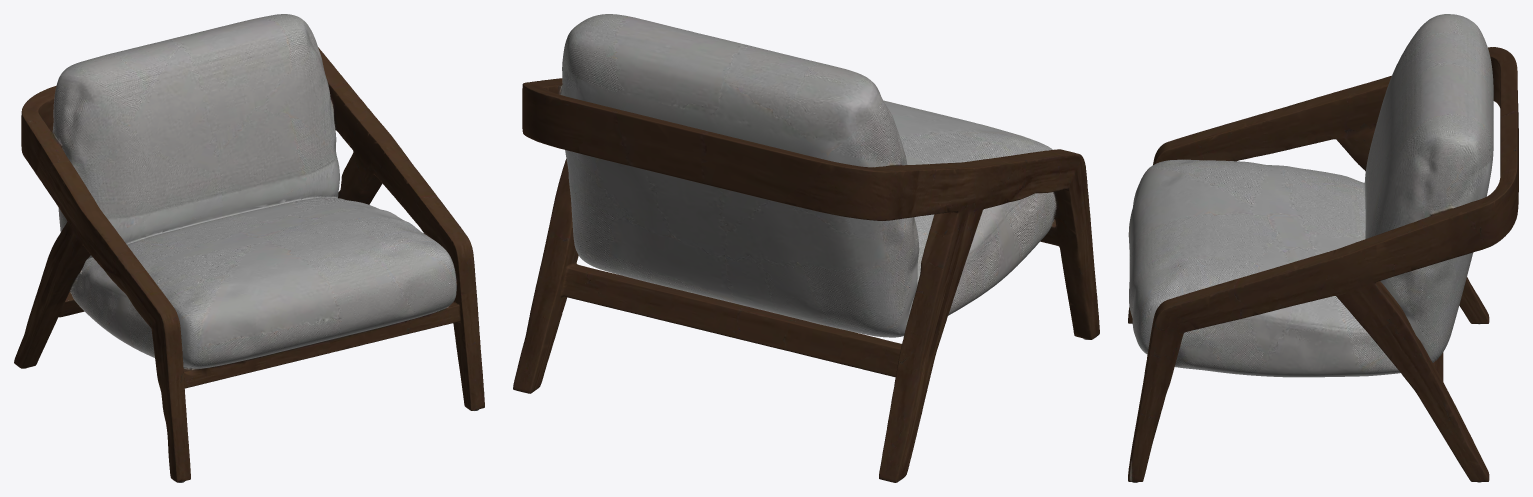
File: flick.glb
3 views of the same model, side by side, from view 1: azimuth 30°, elevation 25°; view 2: azimuth 150°, elevation 25°; view 3: azimuth 270°, elevation 25° (orthographic). The views are drawn at different scales.
Visible parts, largest first — view 1: Meshy_AI_Walnut_Lounge_Chair_20261119_texture; view 2: Meshy_AI_Walnut_Lounge_Chair_20261119_texture; view 3: Meshy_AI_Walnut_Lounge_Chair_20261119_texture.
Part boxes in pixels (box(x1,y1,x2,y2)): Meshy_AI_Walnut_Lounge_Chair_20261119_texture: box(14, 14, 484, 482); Meshy_AI_Walnut_Lounge_Chair_20261119_texture: box(513, 14, 1099, 482); Meshy_AI_Walnut_Lounge_Chair_20261119_texture: box(1128, 14, 1518, 482).
Bounding box in the file's own units: 0.85 × 0.79 × 0.84.
Materials: 1 (1 with a texture image).
